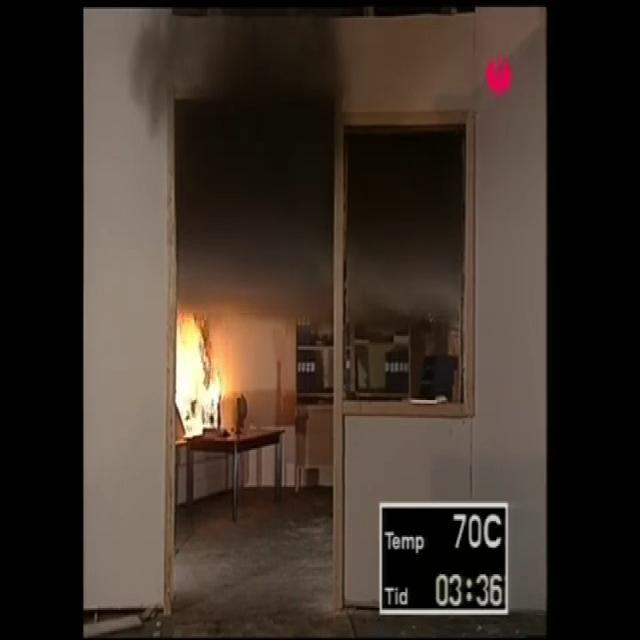Fire: (174, 308, 222, 437)
Smoke: (122, 0, 355, 169)
